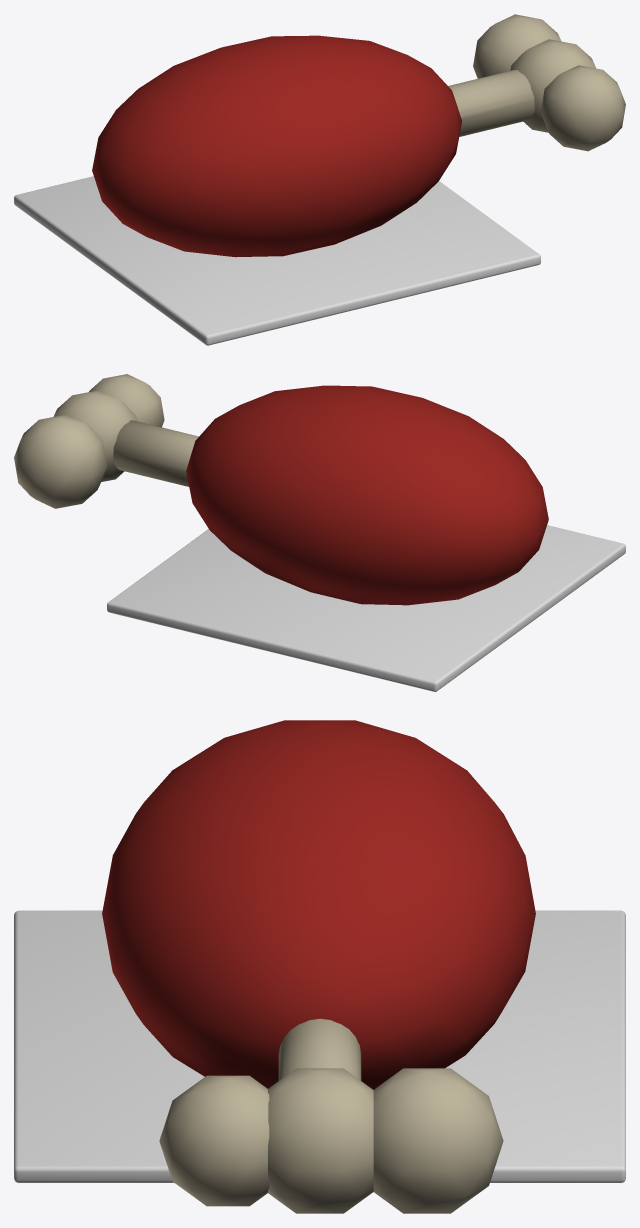
Rendered from dropped-meat.obj.
3 renders of one model, top to bottom at view 1: azimuth 30°, elevation 25°; view 2: azimuth 150°, elevation 25°; view 3: azimuth 270°, elevation 25°, orthographic. The views are drawn at different scales.
Parts seen in each view (by area): view 1: dropped-meat; view 2: dropped-meat; view 3: dropped-meat.
Boxes of the visible parts, bbox=[...] form: dropped-meat: bbox=[14, 14, 625, 345]; dropped-meat: bbox=[14, 374, 625, 691]; dropped-meat: bbox=[14, 720, 625, 1213].
Bounding box in the file's own units: 0.5835 × 0.21 × 0.4.
